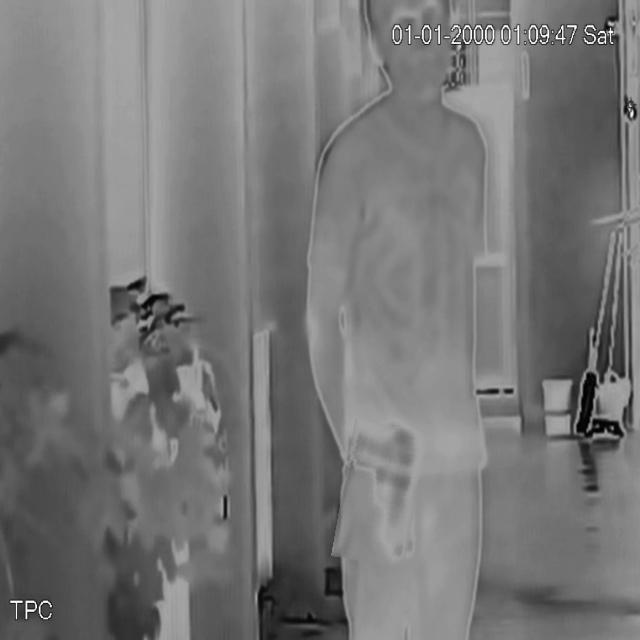Weapon: (337, 422, 423, 566)
